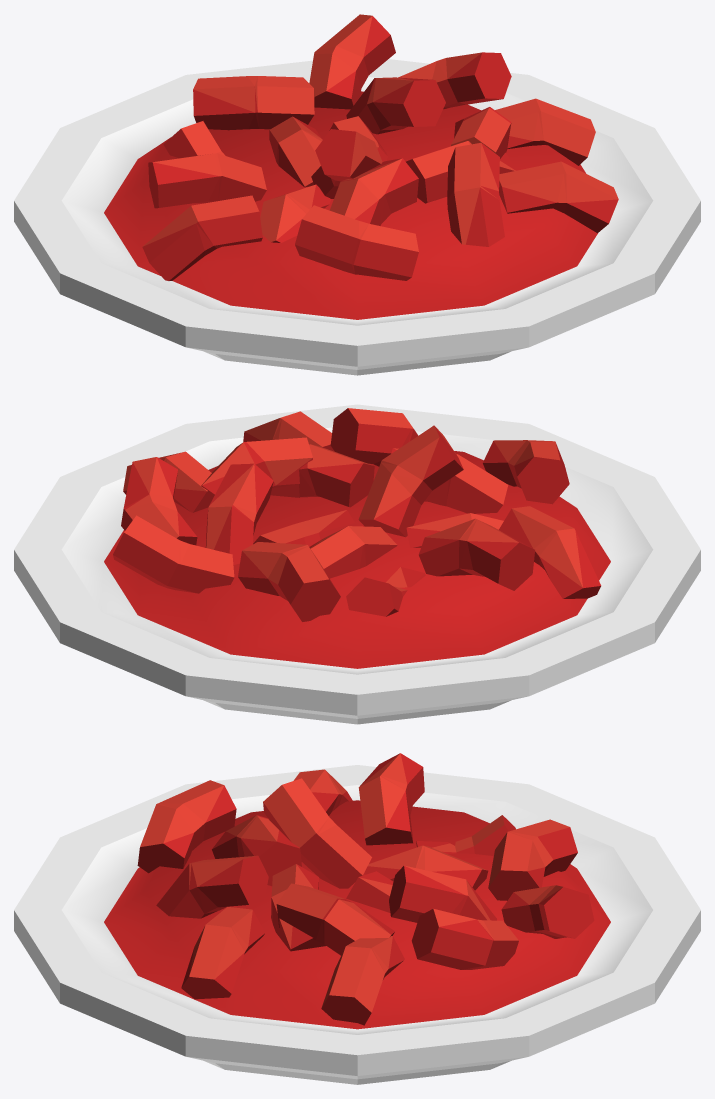
Rendered from pastaSauce.dae.
3 renders of one model, top to bottom at view 1: azimuth 30°, elevation 25°; view 2: azimuth 150°, elevation 25°; view 3: azimuth 270°, elevation 25°, orthographic.
Visible parts, largest first — view 1: plateSauerkraut; view 2: plateSauerkraut; view 3: plateSauerkraut.
Boxes of the visible parts, x1,y1,x2,y2 form: plateSauerkraut: (14,14,700,375); plateSauerkraut: (14,404,700,724); plateSauerkraut: (14,753,700,1084).
Bounding box in the file's own units: 0.8918 × 0.8918 × 0.2422.
